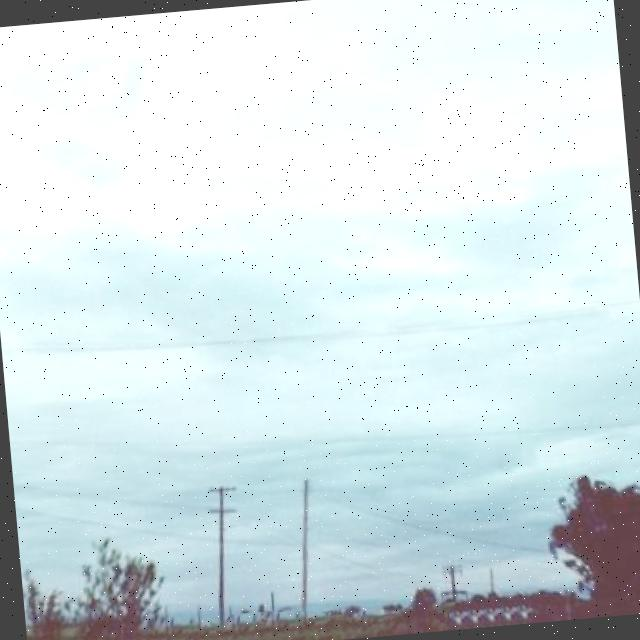Sc: (1, 1, 640, 461)
